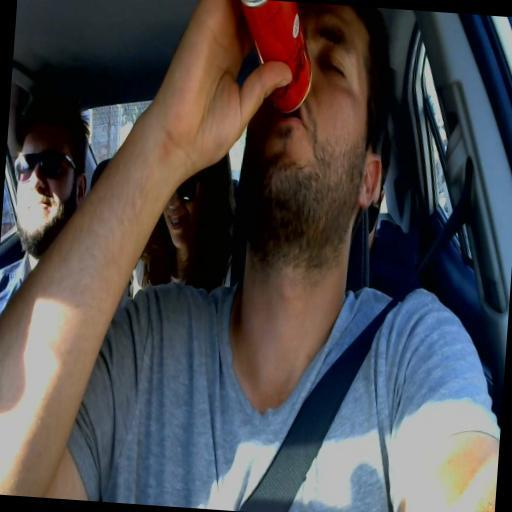Drinking: (211, 5, 378, 252)
